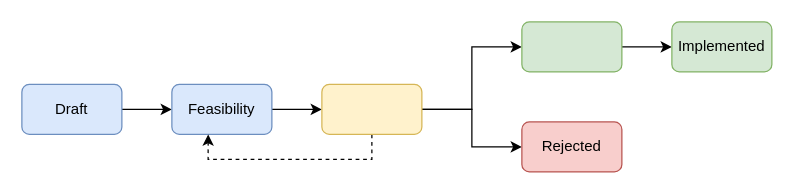
This 794x194 diagram has some shape labels left out. The centre of each missing label's shape, as x and y in pixels:
Approved: (571,46)
SC Review Pending: (371,108)
